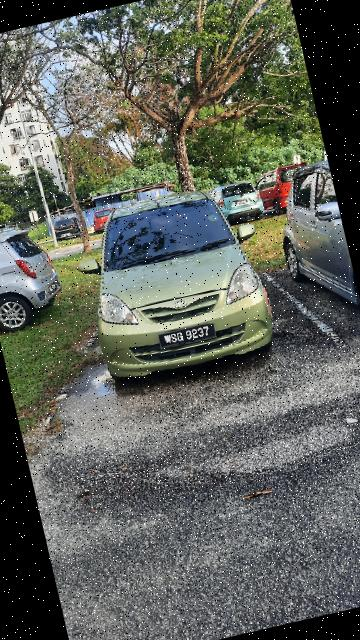License_Plate: (154, 317, 223, 355)
car: (60, 173, 292, 399), (266, 156, 360, 325), (1, 214, 73, 342), (213, 175, 269, 225)
